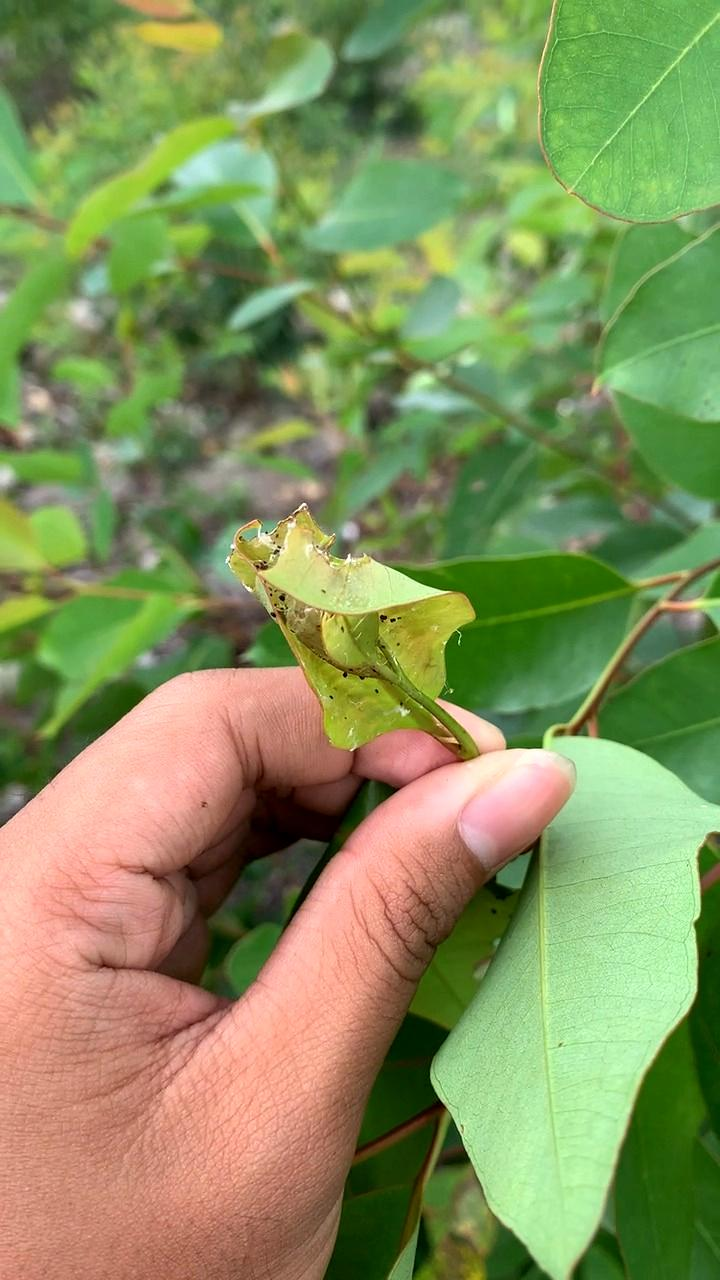Leaf Roller - Leaf: (220, 508, 479, 757)
